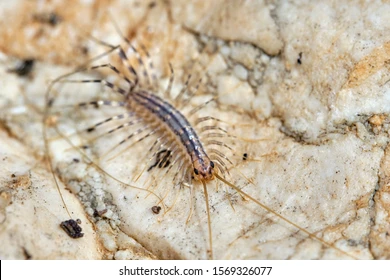centipede: (69, 38, 298, 236)
